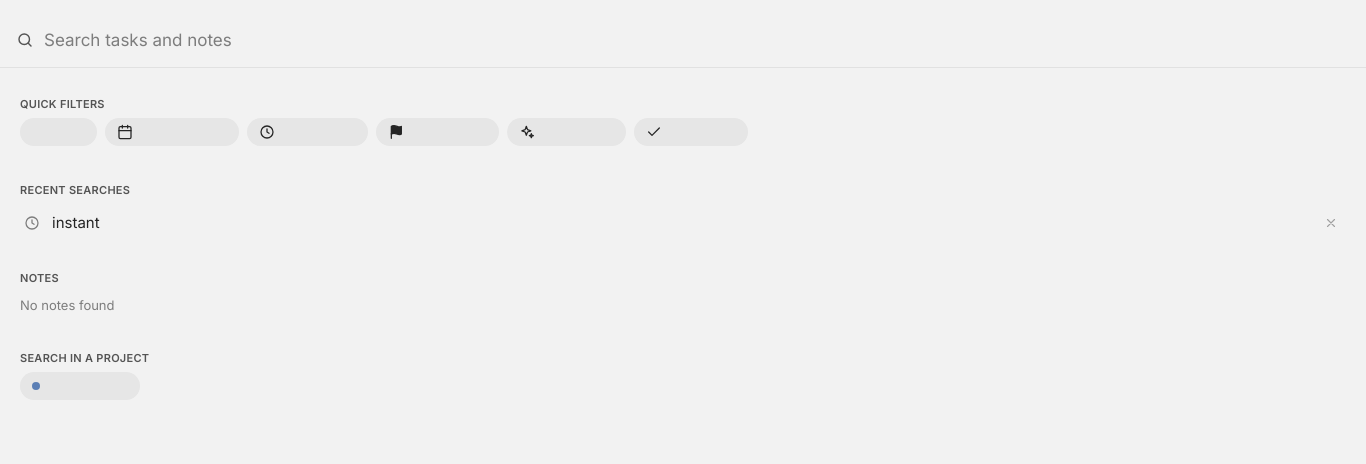
it: SearchPanel & SearchPopup › renders Tasks, Projects, Notes sections with <mark> around matched text
Type "bai tap" into the dropdown. click: (697, 40)
box: left=44, top=12, right=1350, bottom=67
Wait 450 ms
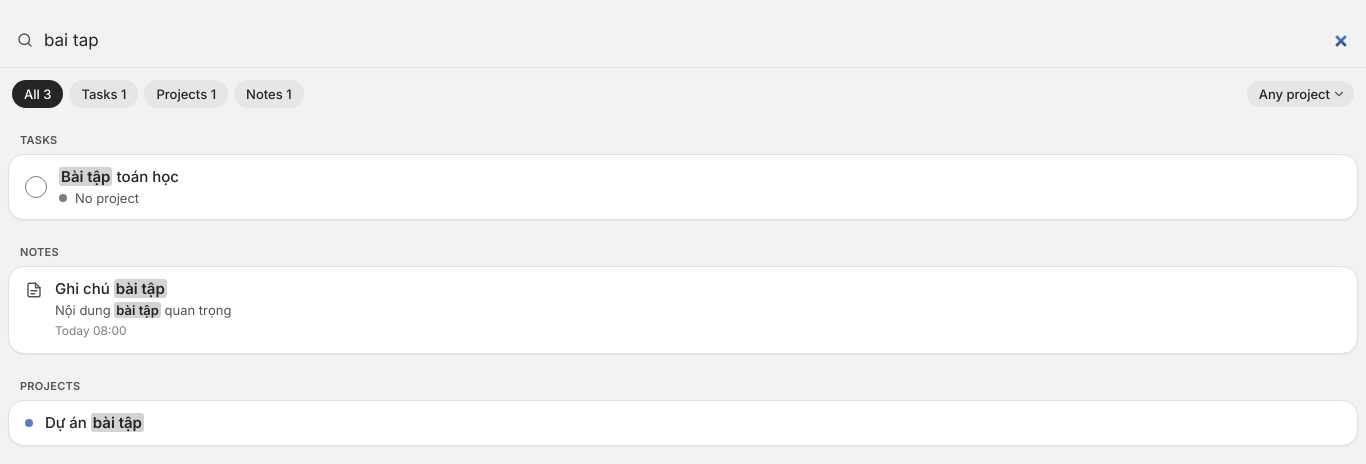
Now the text "Tasks" is shown, box left=20, top=133, right=58, bottom=147
Now the text "Projects" is shown, box left=20, top=379, right=80, bottom=393
Now the text "Bài tập" is shown, box left=59, top=167, right=112, bottom=186
